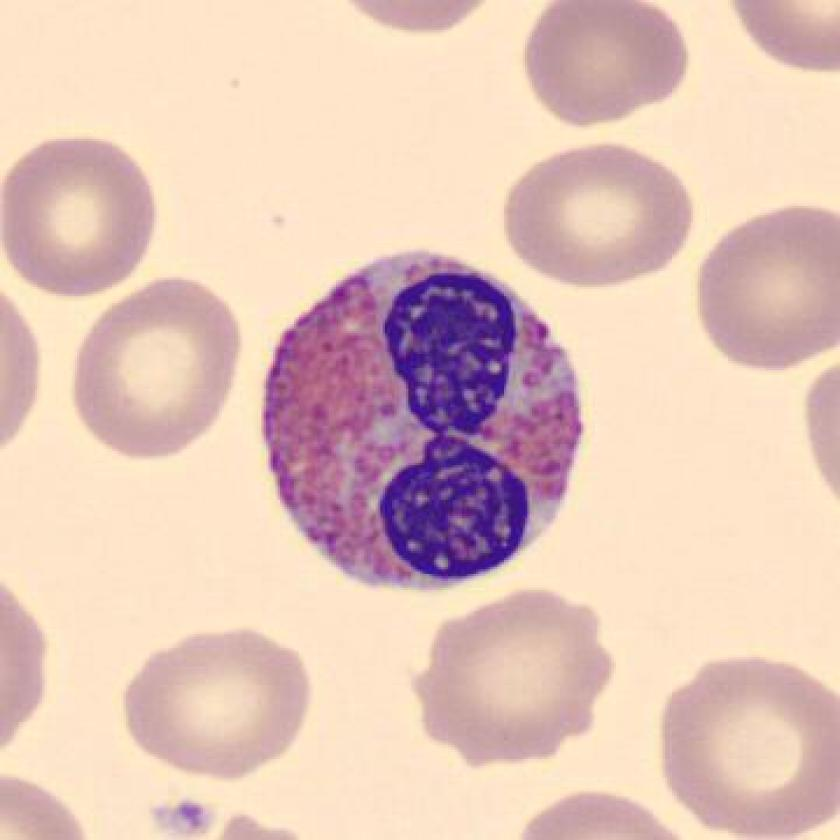eosinophil: (248, 230, 601, 605)
